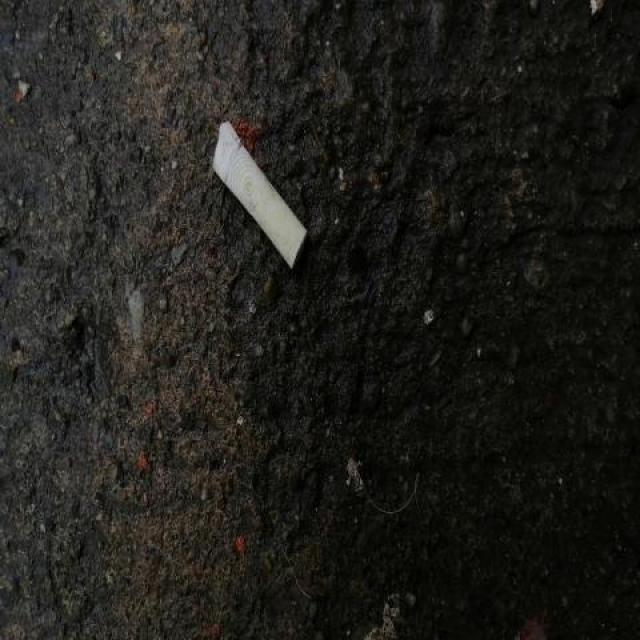non-organic waste: (210, 120, 311, 277)
